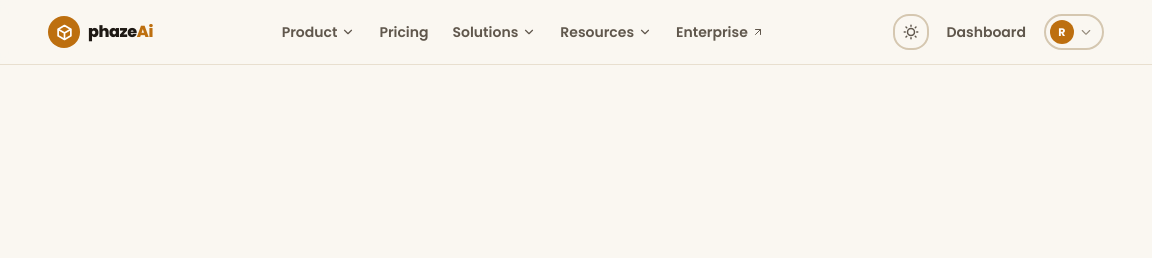
Test: marketing navigation › does not show Admin Dashboard for a non-admin account
The width and height of the screenshot is (1152, 258).
Click the button named "Account menu".
click(1074, 32)  # box [1044, 14, 1104, 50]
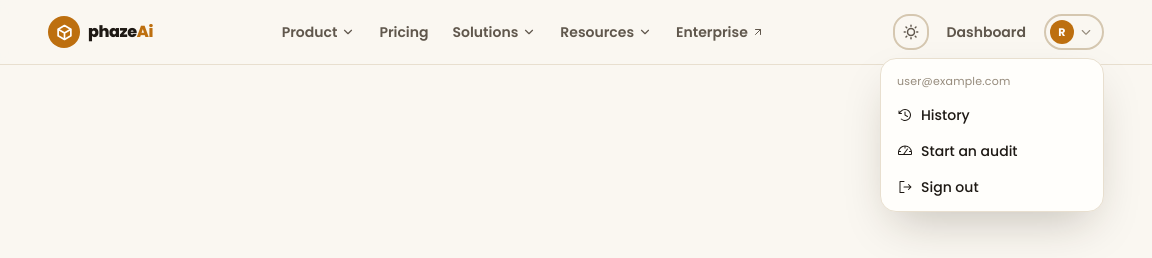
expect the button "Sign out" is shown: met, box [887, 169, 1097, 205]
